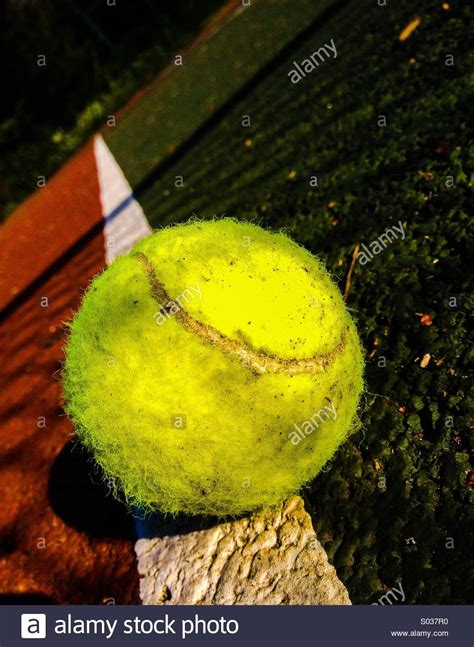tennis_ball: (59, 215, 365, 520)
